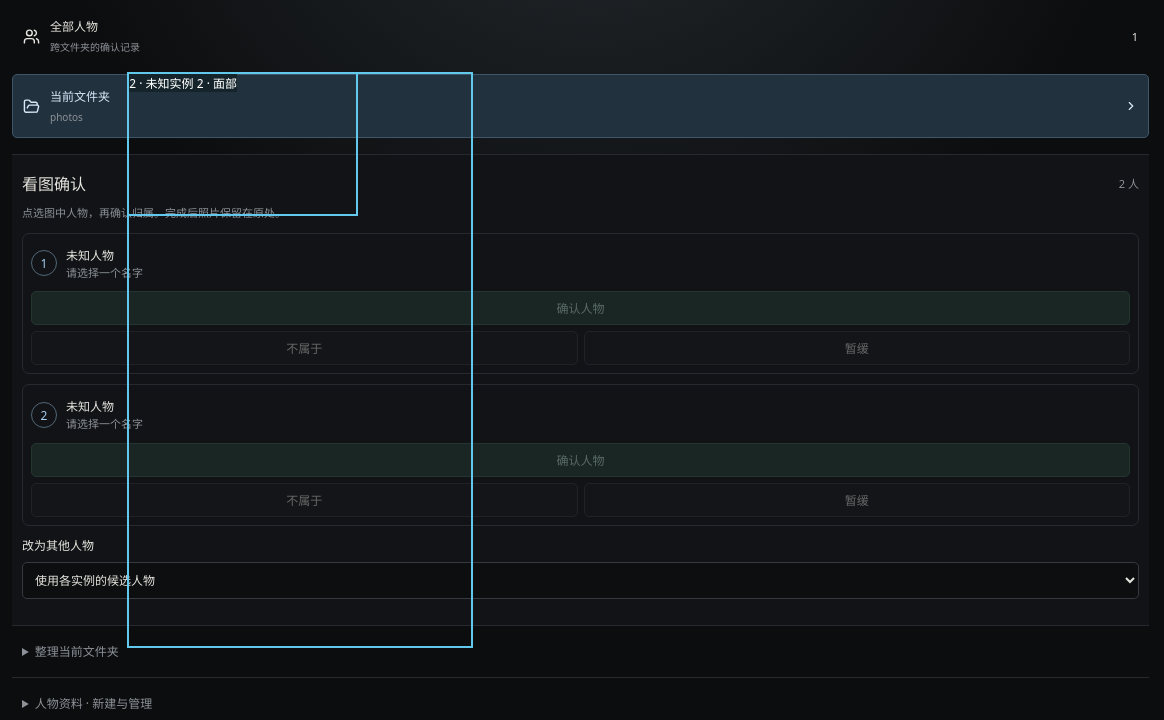
Test: shows the global library navigation and hides folder review while browsing the library
This screenshot has width=1164, height=720.
What coordinates should you click on to do the following:
click the button "全部人物 跨文件夹的确认记录 1"
I would click on:
 (74, 26)
Its box is [12, 4, 1149, 68].
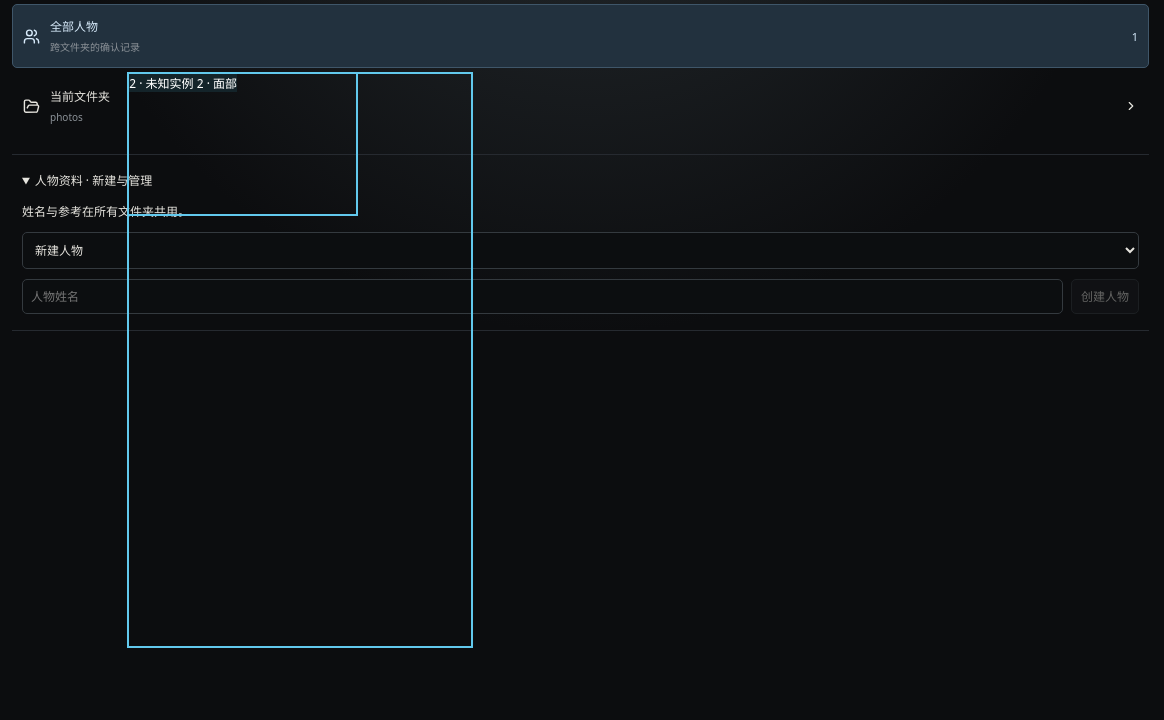
Expected: the field named "全局人物姓名" is shown, [22, 279, 1063, 314]
Expected: the element named "看图确认" is gone
